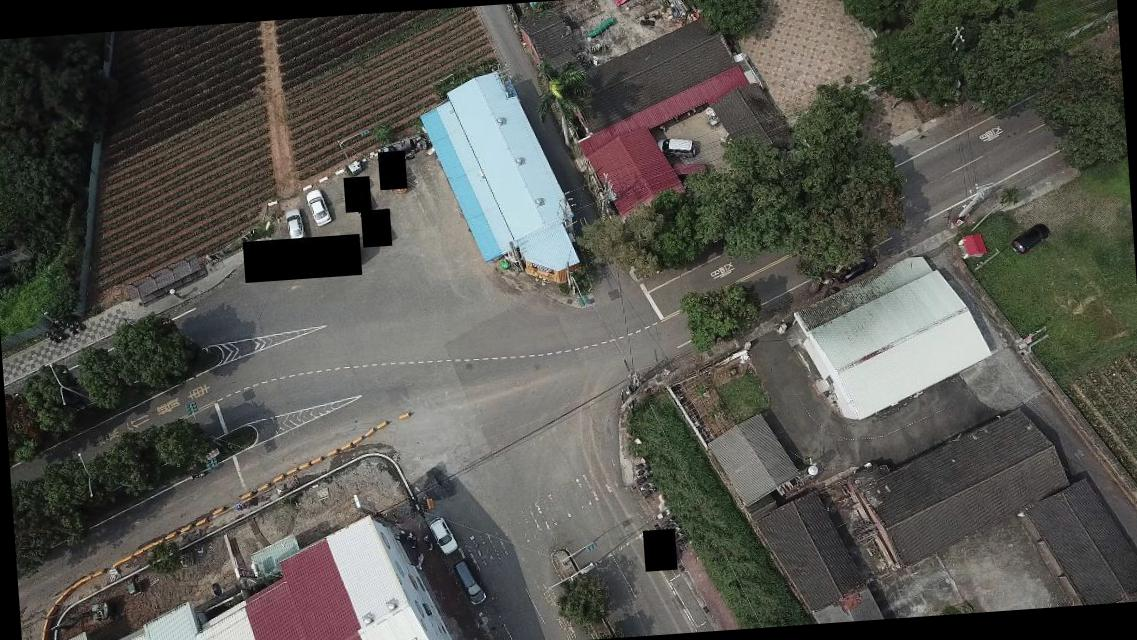vehicle: (452, 556, 486, 606), (1008, 221, 1050, 256), (426, 514, 456, 554), (654, 134, 697, 160), (305, 187, 332, 227), (282, 206, 306, 243), (670, 160, 706, 183)
